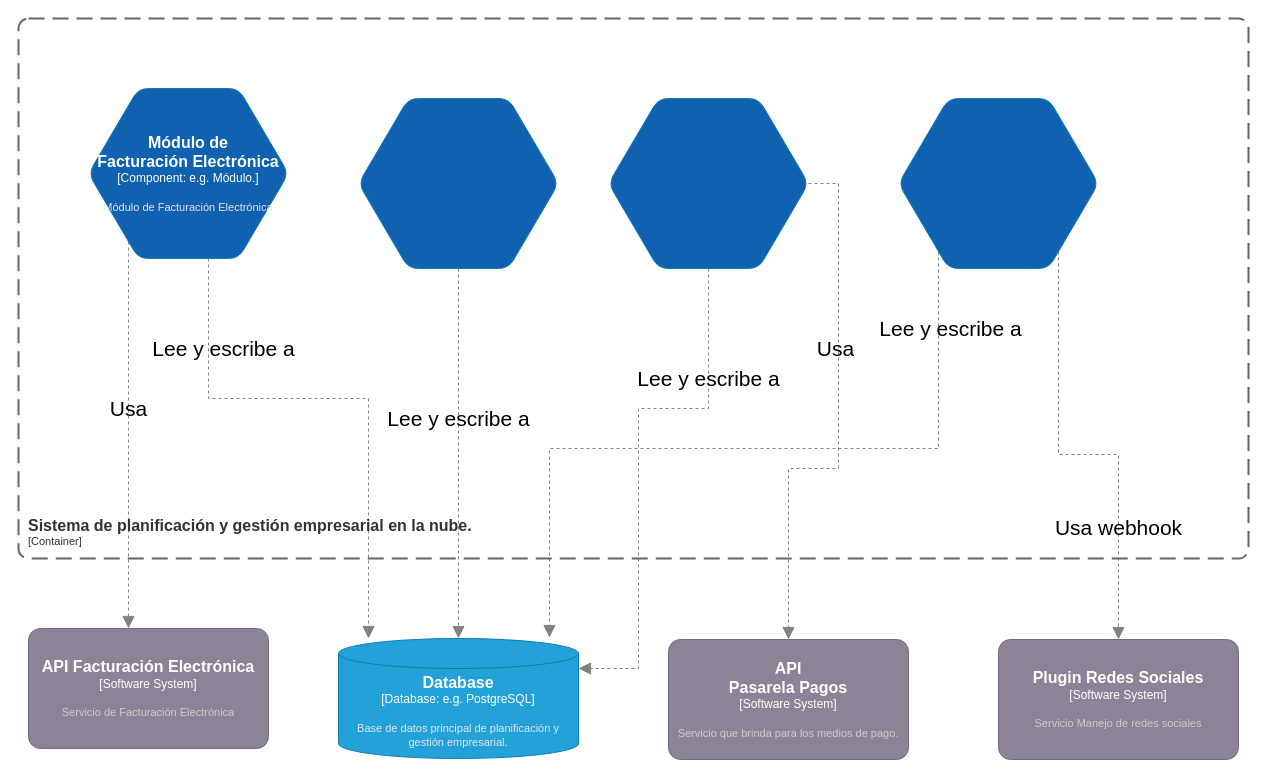
Image size: 1266x777. Some labels were removed from this diagram. The shapes that lost their labels are listed below. From the top down, each one's box as (x1, y1, x2, y2) in pixels, then its label:
(358, 98, 558, 268): Módulo de Pagos [Component: e.g. Módulo.] Módulo de Pagos
(608, 98, 808, 268): Service Bus [Component: e.g. Módulo.] Colas Asincronas
(898, 98, 1098, 268): Gestor de redes sociales [Component: e.g. Módulo.] Gestor de redes sociales
